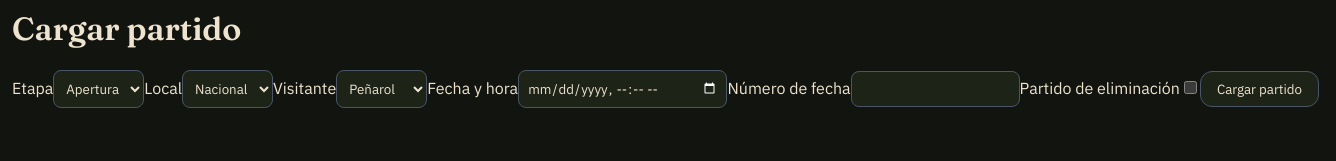
MatchesAdminPage › no permite elegir el mismo equipo como local y visitante
This screenshot has width=1336, height=161.
Select "Nacional" in the dropdown labelled "Local" at (228, 89), box [182, 70, 273, 108]
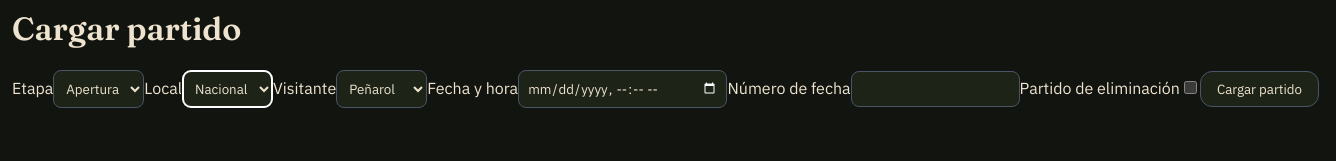
Select "Nacional" in the dropdown labelled "Visitante" at (382, 89), box [336, 70, 427, 108]
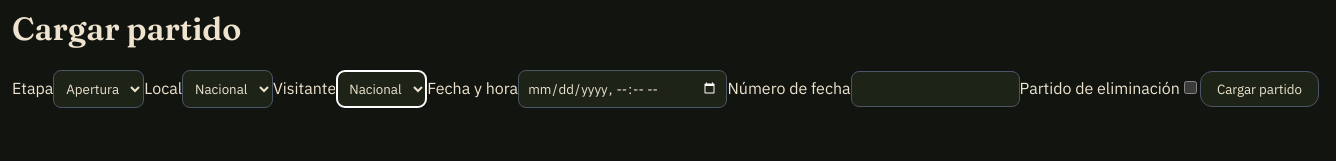
Type "2026-03-01T20:00" into the field labelled "Fecha y hora" at (623, 89), box [518, 70, 728, 108]
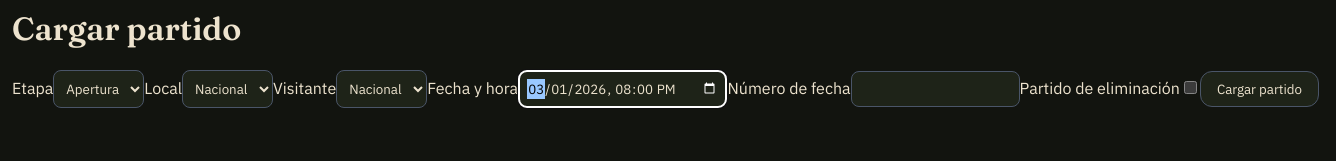
Click the button "Cargar partido" at (1259, 89), box [1200, 71, 1319, 107]
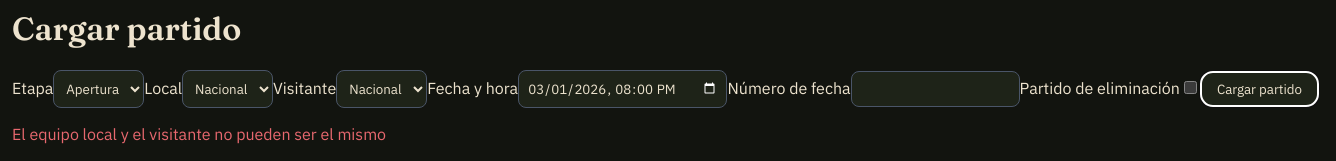
Now the text "El equipo local y el visitante no pueden ser el mismo" is shown, box [12, 124, 386, 144]
